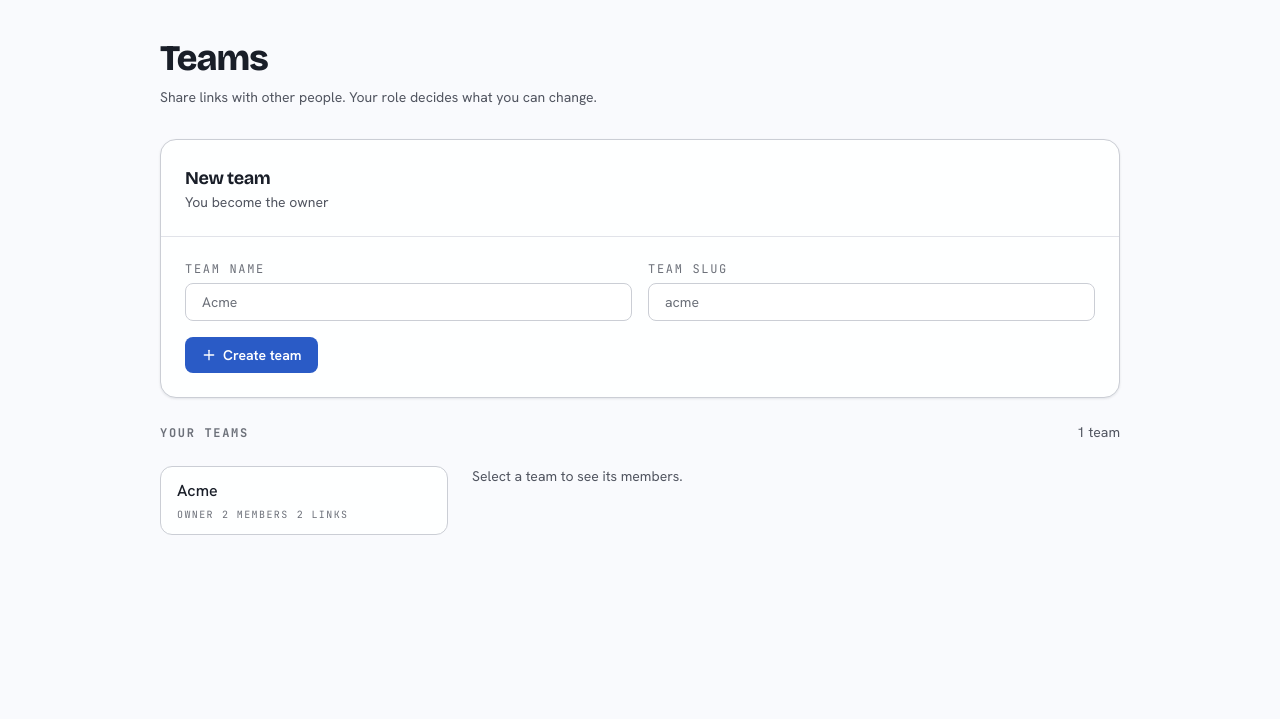
Test case: Organizations page › owner sees only the controls that role allows
What coordinates should you click on to do the following:
click the button "Acme Owner 2 members 2 links"
I would click on:
 (197, 490)
Its box is [160,466,448,535].
(page scrolled)
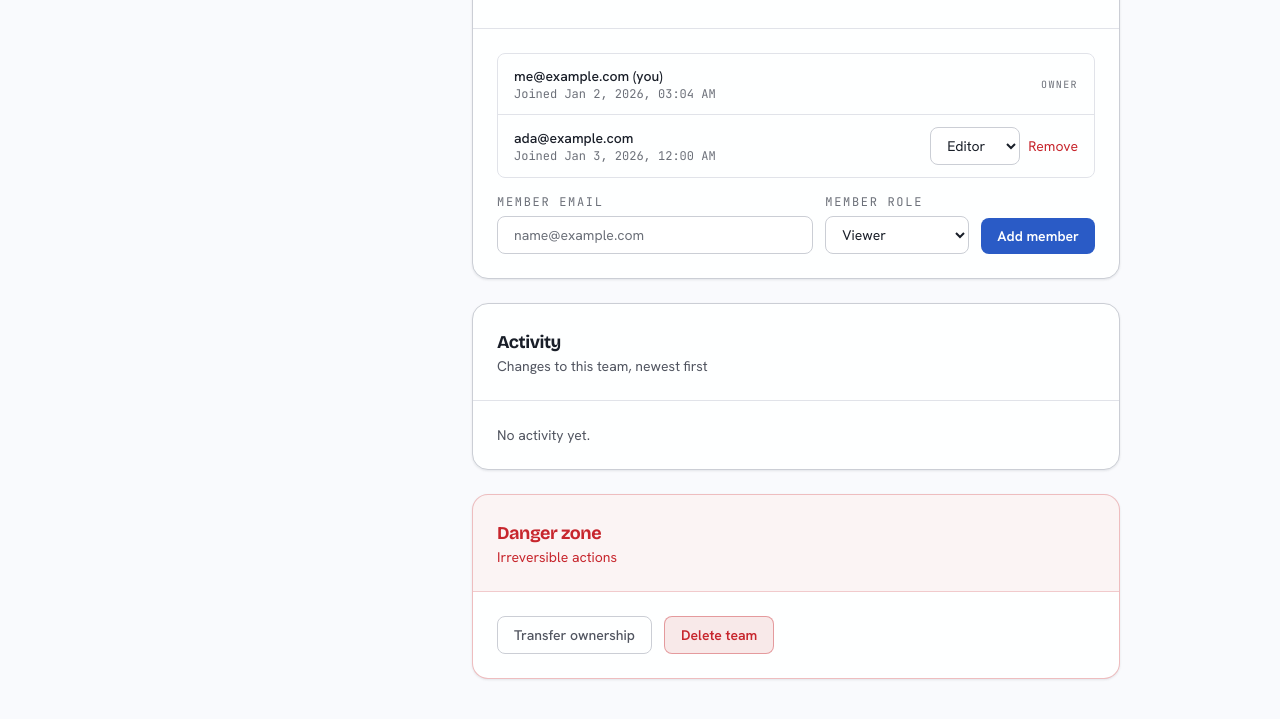
Expected: the text "ada@example.com" is shown, [514,129,633,147]
Expected: the button "Add member" is shown, [981,218,1095,254]
Expected: the dropdown named "Role for ada@example.com" is shown, [930,127,1020,165]
